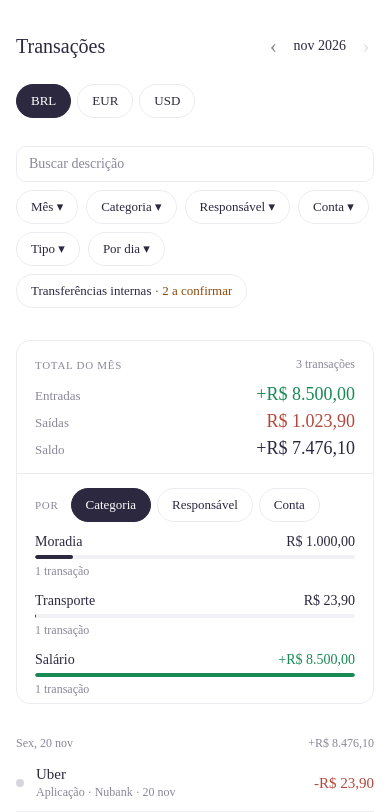
TransactionsScreen: what the old app had › lists only the internal transfers when asked, without counting them
Click the checkbox labelled "Transferências internas".
click(132, 291)  # box [16,274,247,308]
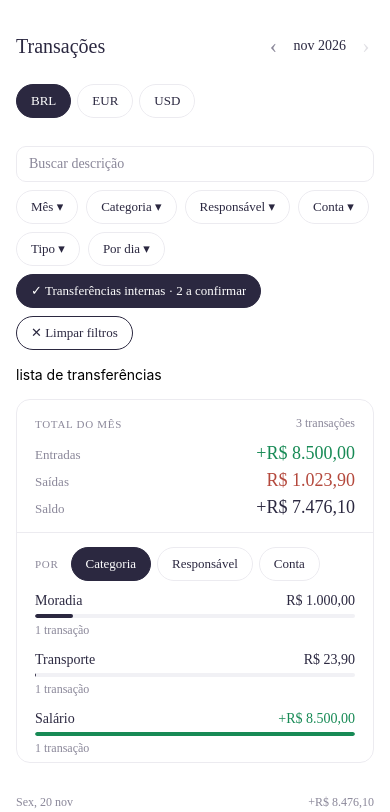
Expected: the text "✓ Transferências internas · 2 a confirmar" is shown, [31,283,246,299]
Expected: the text "lista de transferências" is shown, [16,366,162,383]
